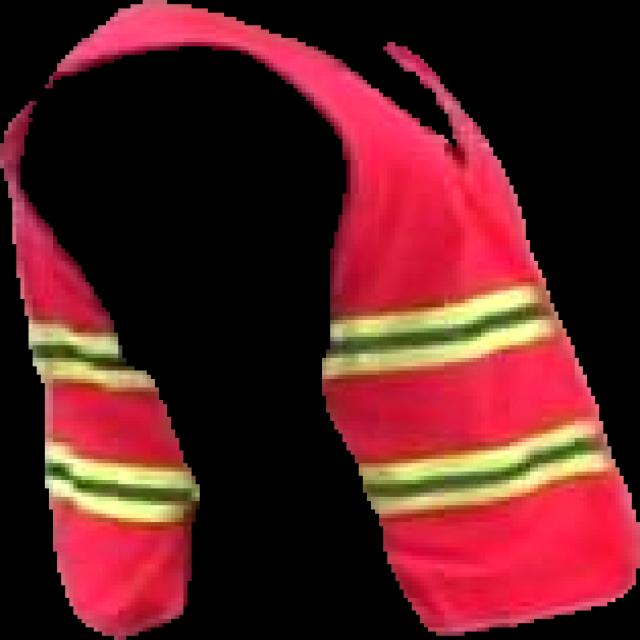Colete: (45, 0, 639, 635)
